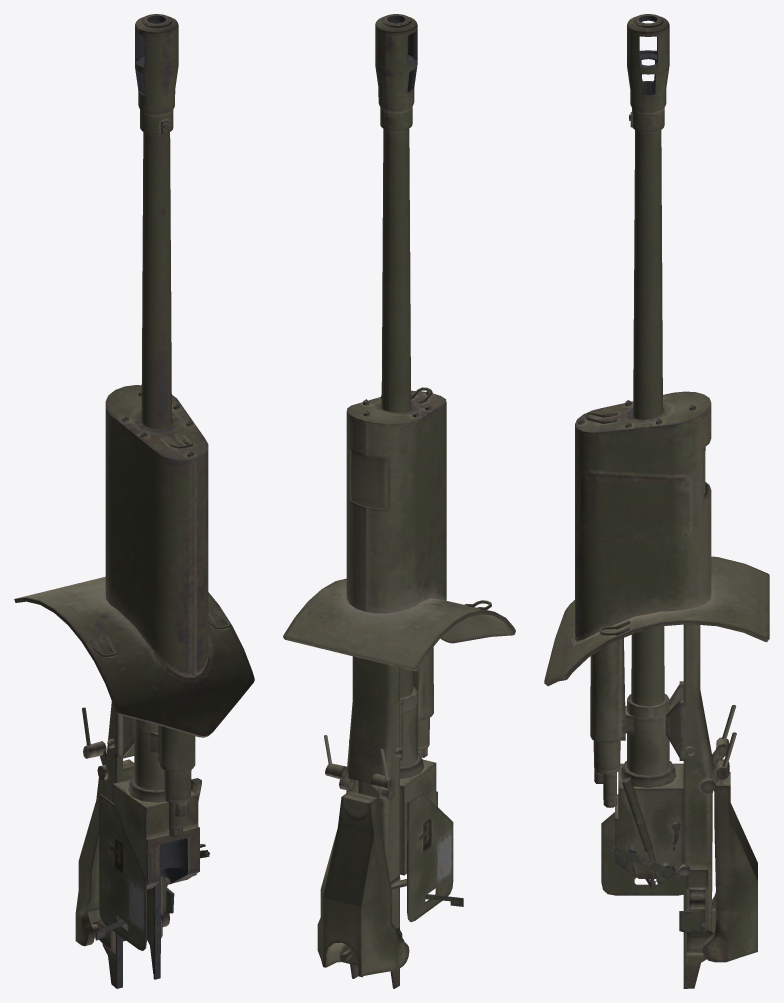
File: Gun_03.glb
3 renders of one model, left to right at view 1: azimuth 30°, elevation 25°; view 2: azimuth 150°, elevation 25°; view 3: azimuth 270°, elevation 25°, orthographic. The views are drawn at different scales.
Parts seen in each view (by area): view 1: set_0_group_0; view 2: set_0_group_0; view 3: set_0_group_0.
Part boxes in pixels (x1,y1,x2,y2): set_0_group_0: (14, 14, 254, 988); set_0_group_0: (283, 14, 515, 988); set_0_group_0: (544, 14, 769, 988).
Size of the model in its own units: 0.5839 by 3.97 by 0.8471.
Materials: 1 (1 with a texture image).
